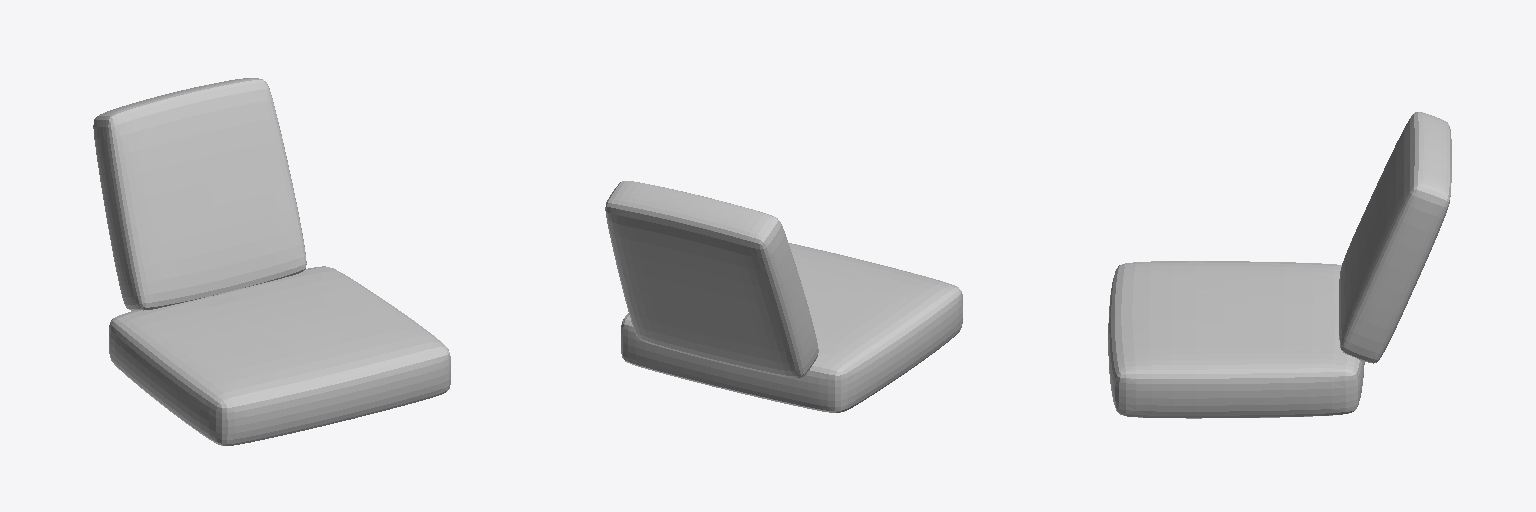
File: housesp_127.obj
3 views of the same model, side by side, from view 1: azimuth 30°, elevation 25°; view 2: azimuth 150°, elevation 25°; view 3: azimuth 270°, elevation 25° (orthographic).
Bounding box in the file's own units: 55.8 × 49.28 × 69.